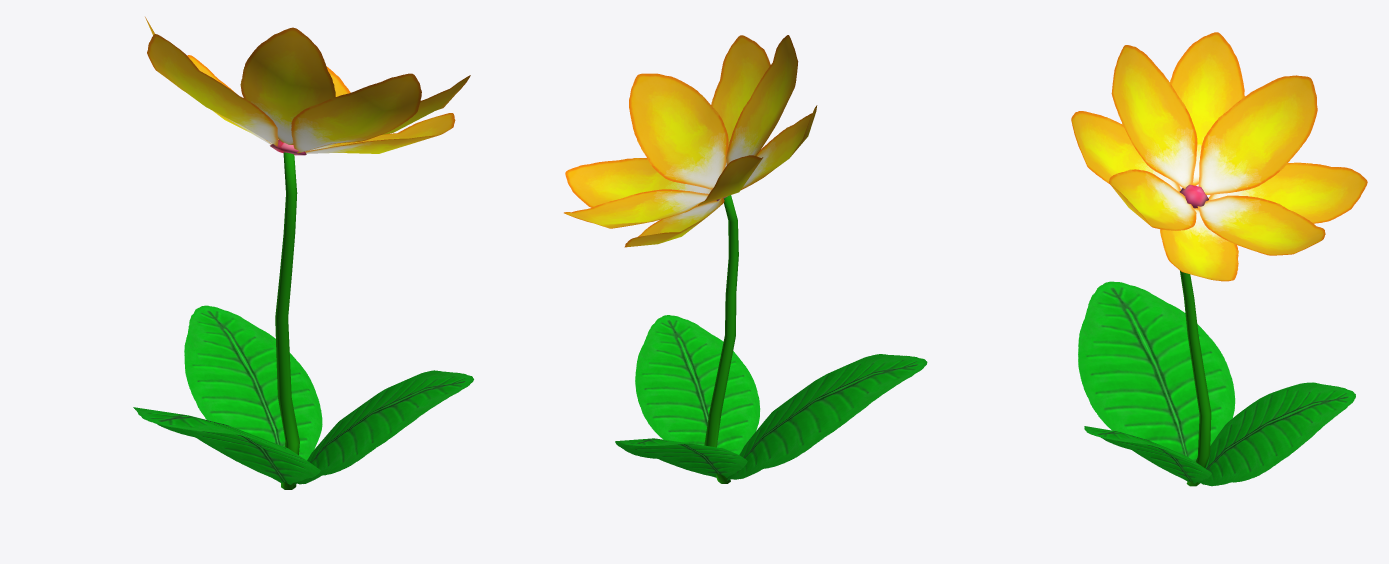
File: OrangeFlowerWithStem.fbx
The picture shows the model from 3 angles, left to right: view 1: azimuth 30°, elevation 25°; view 2: azimuth 150°, elevation 25°; view 3: azimuth 270°, elevation 25°; orthographic projection. The views are drawn at different scales.
Visible parts, largest first — view 1: Plane.002; view 2: Plane.002; view 3: Plane.002.
Part boxes in pixels (x1,y1,x2,y2): Plane.002: [133, 17, 473, 489]; Plane.002: [564, 35, 927, 483]; Plane.002: [1071, 32, 1367, 486].
Size of the model in its own units: 542 by 595 by 466.
